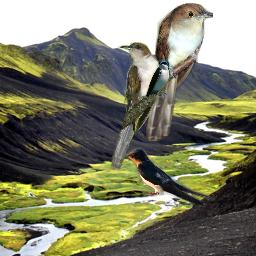Cuckoo: (146, 2, 213, 141), (111, 42, 162, 170)
Swallow: (122, 146, 217, 207), (146, 59, 171, 98)
